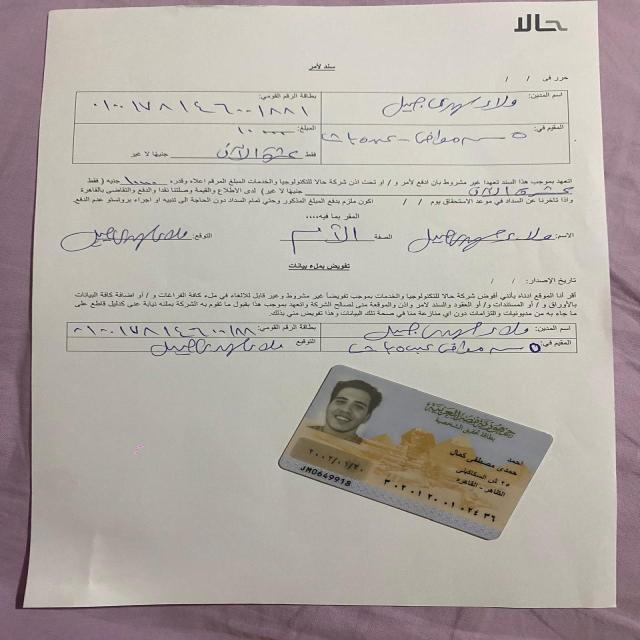ID-cards: (267, 357, 566, 549)
